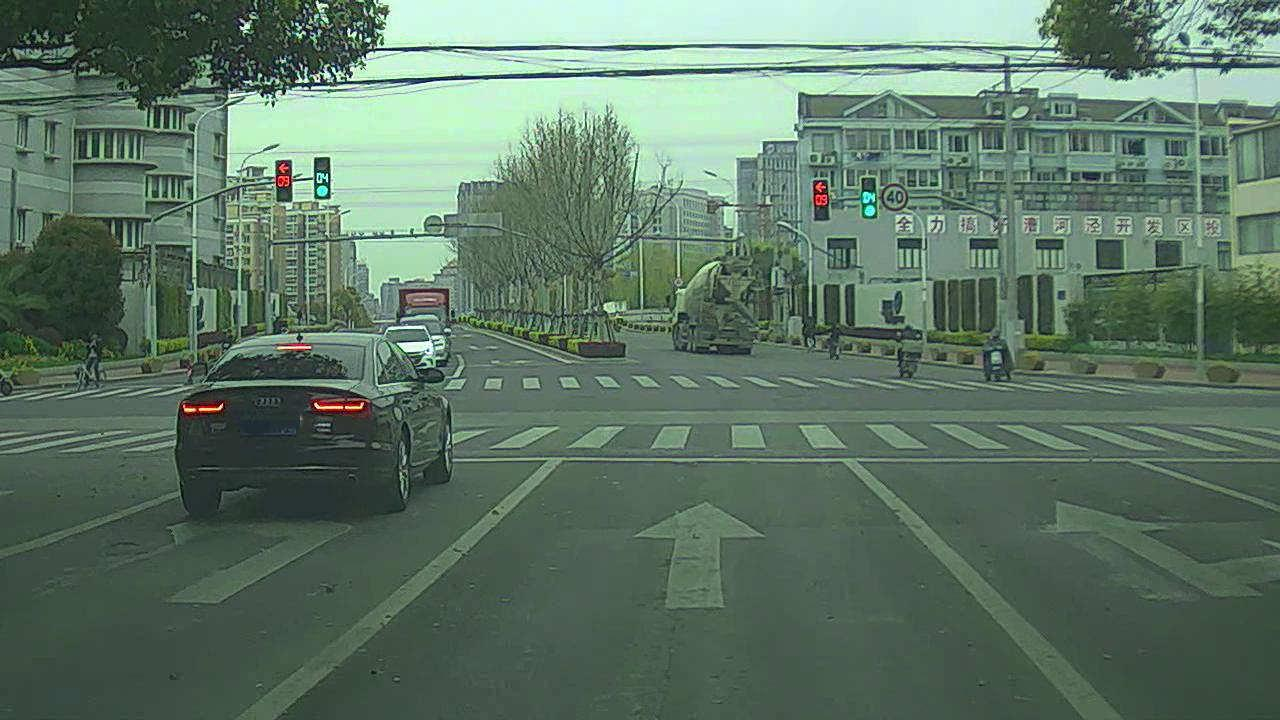traffic_light: (859, 173, 880, 222), (810, 178, 832, 222), (274, 159, 294, 203), (316, 155, 331, 201)
